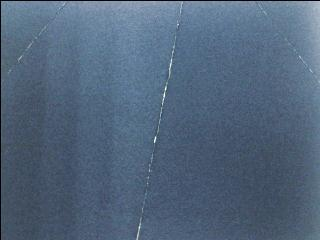crack: (129, 0, 190, 240), (0, 0, 71, 80), (255, 0, 320, 82)
